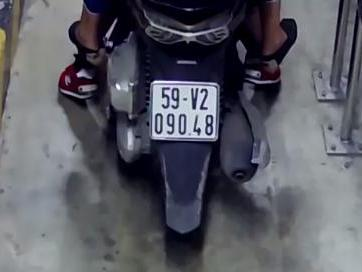num_plate: (150, 80, 220, 140)
